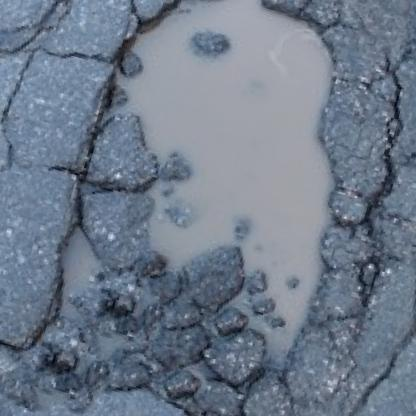pothole: (14, 0, 408, 416)
